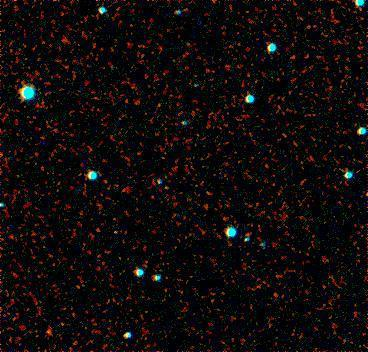star: (33, 317, 63, 347)
